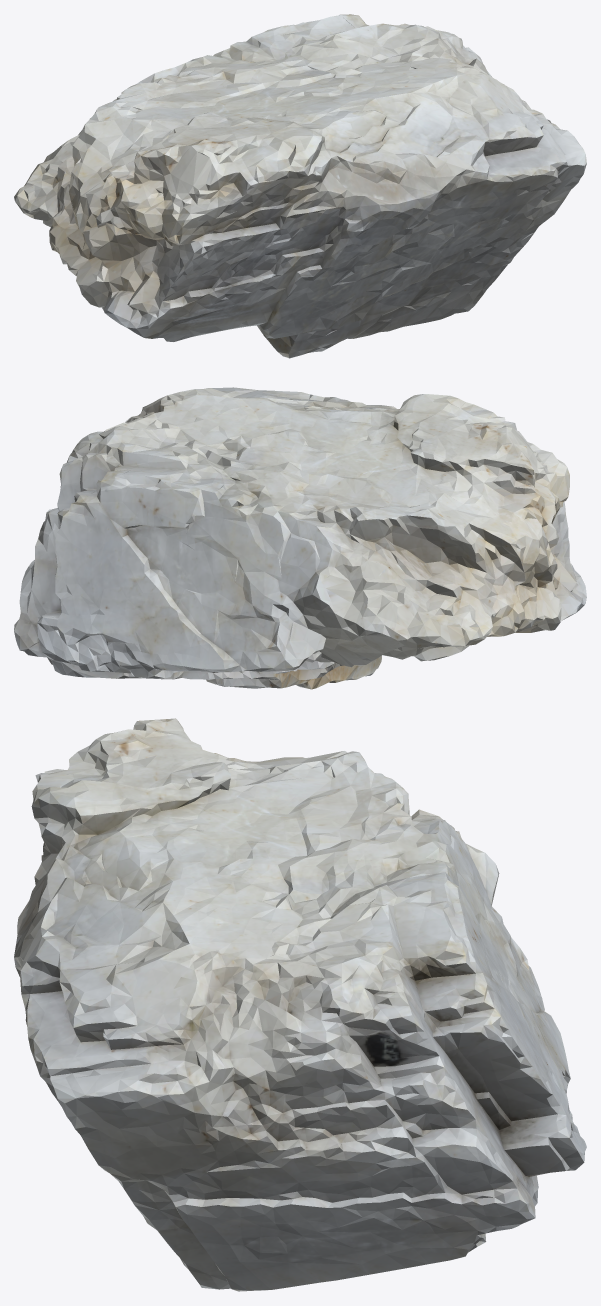
The model's file is limestone_low.glb.
3 views of the same model, one above another, from view 1: azimuth 30°, elevation 25°; view 2: azimuth 150°, elevation 25°; view 3: azimuth 270°, elevation 25° (orthographic). The views are drawn at different scales.
Visible parts, largest first — view 1: model.005; view 2: model.005; view 3: model.005.
Boxes of the visible parts, x1,y1,x2,y2 form: model.005: (14, 14, 586, 358); model.005: (14, 387, 586, 689); model.005: (14, 718, 586, 1291).
Bounding box in the file's own units: 28.33 × 15.22 × 22.25.
Materials: 1 (1 with a texture image).
